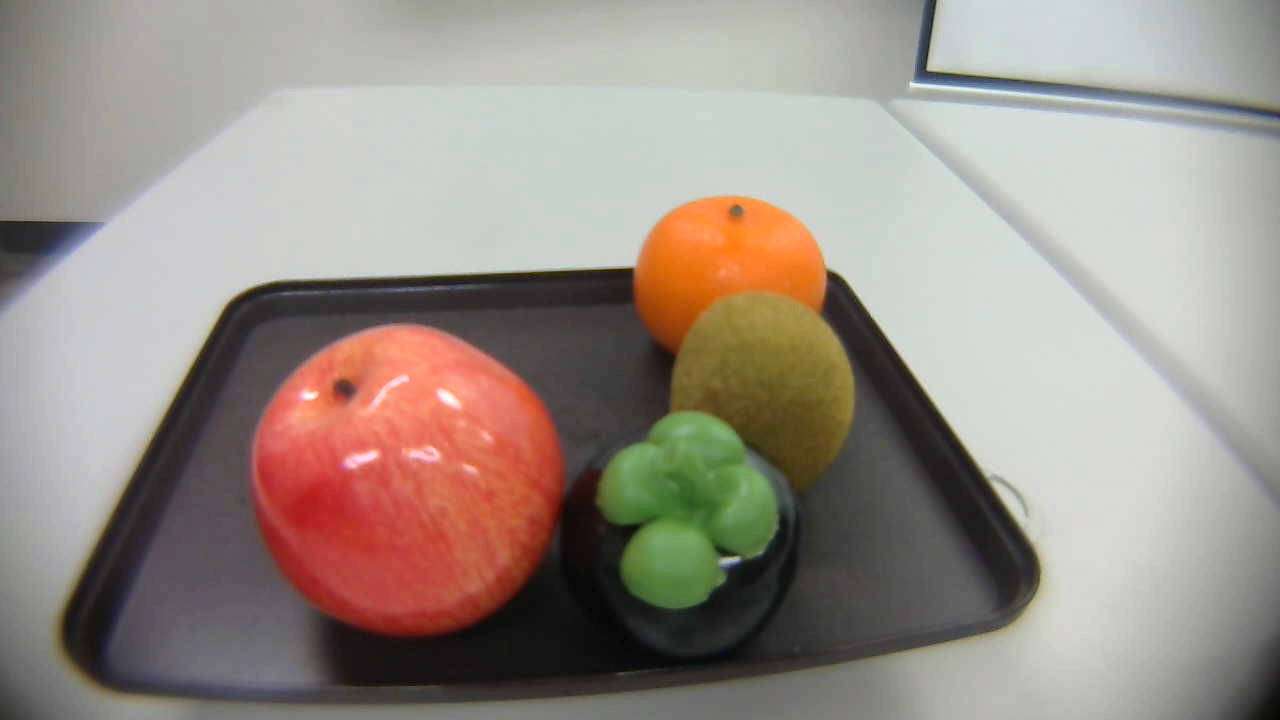kiwi fruit: (663, 281, 857, 491)
mangosteen: (555, 414, 801, 666)
orange: (630, 184, 835, 366)
red apple: (240, 319, 573, 663)
